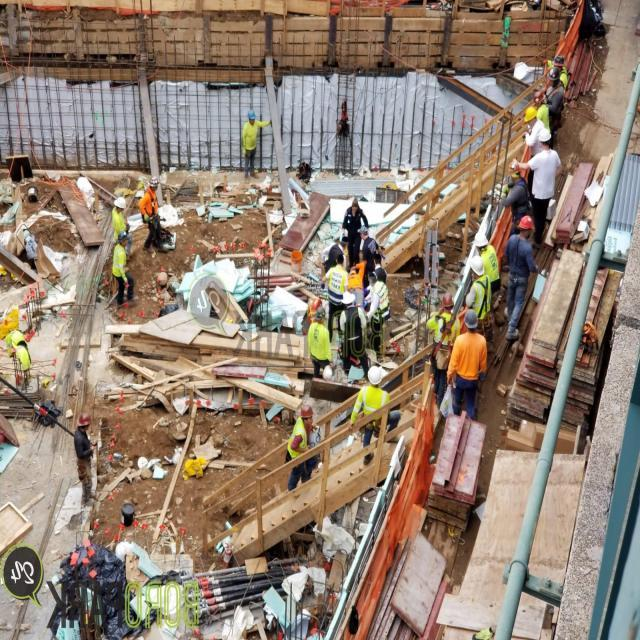reflective_jacket: (299, 320, 337, 364), (7, 330, 32, 374), (355, 385, 388, 418), (472, 274, 491, 318), (328, 263, 348, 301), (373, 280, 391, 320), (288, 420, 308, 455), (112, 246, 127, 276), (141, 190, 157, 218)
safety_helmet: (368, 364, 384, 384), (470, 254, 484, 274), (464, 309, 479, 327), (121, 500, 135, 516), (77, 410, 91, 426), (520, 214, 534, 230), (474, 232, 488, 247), (524, 105, 536, 122), (538, 129, 550, 143), (302, 403, 314, 417), (114, 195, 126, 208), (156, 272, 168, 284), (291, 249, 301, 262), (247, 108, 257, 120), (510, 160, 520, 172), (29, 186, 38, 198), (117, 229, 127, 238), (150, 174, 158, 185)
